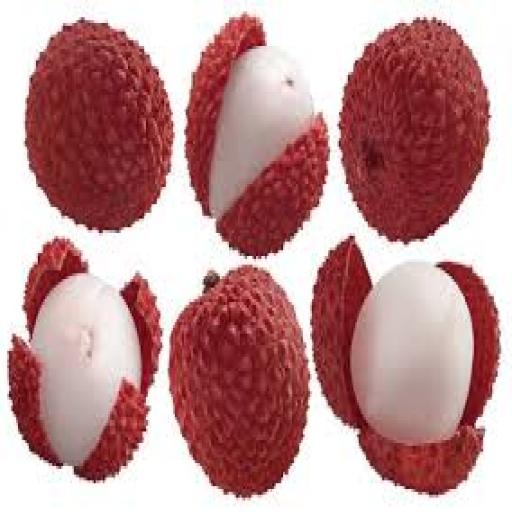lychee: (311, 239, 498, 494), (9, 239, 159, 480), (185, 15, 327, 255), (338, 21, 487, 241), (169, 268, 307, 497), (25, 21, 172, 230), (349, 262, 473, 445)
